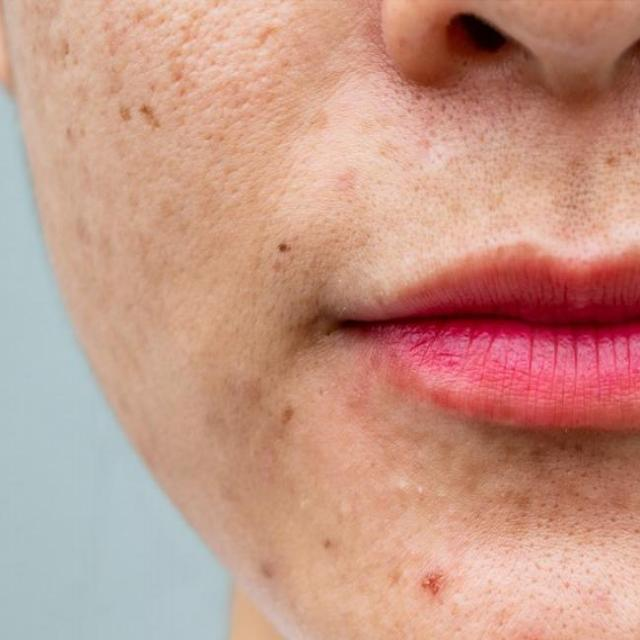blackheads: (136, 98, 169, 135), (392, 472, 426, 503), (417, 561, 446, 596), (270, 395, 296, 426), (275, 236, 299, 263), (255, 554, 273, 578), (324, 534, 334, 554)
